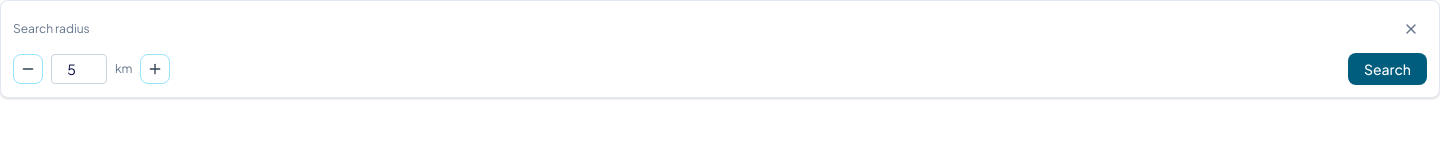
Scenario: RadiusAdjuster › Expanded stepper › increments the draft value when the + button is clicked
The image size is (1440, 160).
Click the button named "Increase radius" at (156, 69), box [140, 54, 170, 84]
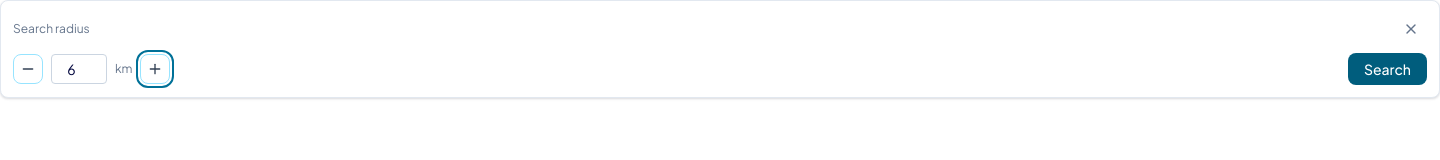
expect the number field labelled "Search radius" holds "6": met, box [51, 54, 107, 84]
